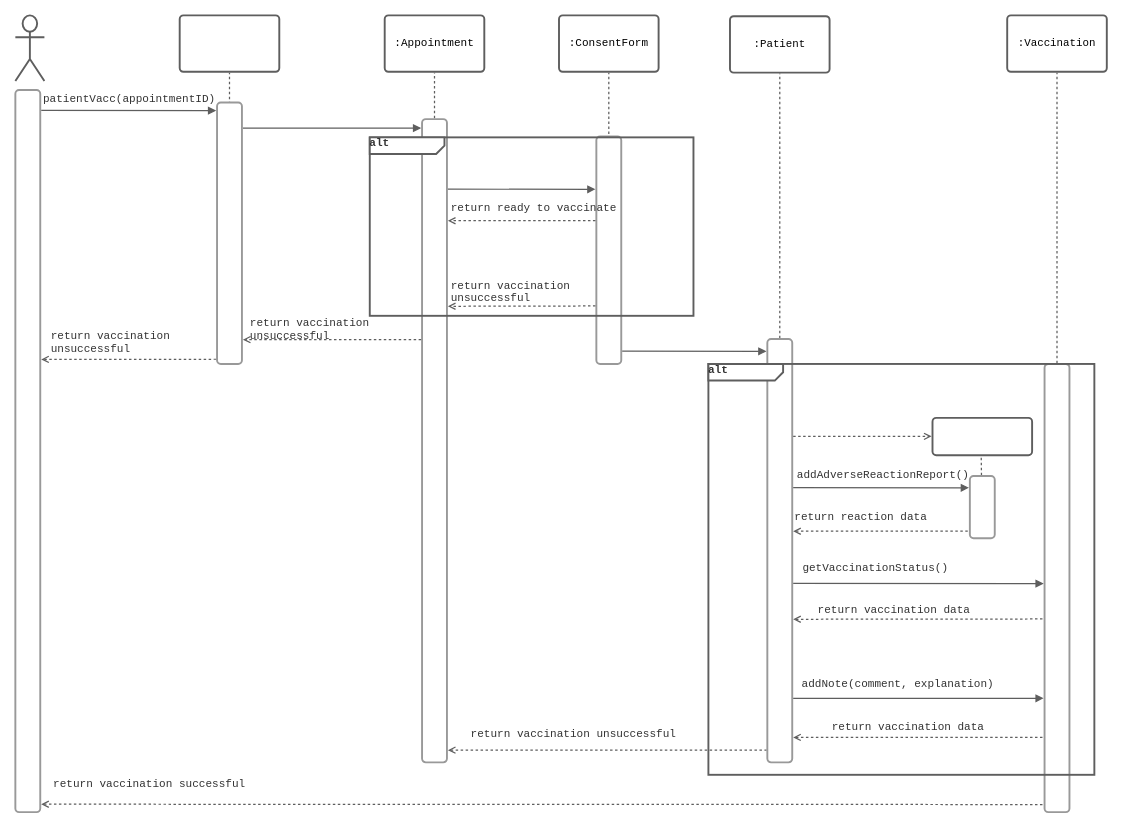
This 1122x828 diagram has some shape labels left out. Here are the shapes that lost their labels. From the top down, the box of each, then its label:
(14, 14, 45, 82): Vaccine Administrator
(178, 14, 280, 72): :On-Vacc
(242, 98, 423, 125): patientVacc(consentFormID, photoID, MedicareCardNum)
(622, 326, 770, 343): getPatientVaccData()
(798, 417, 886, 432): <<create>>
(931, 417, 1033, 456): :OnVaccAlert
